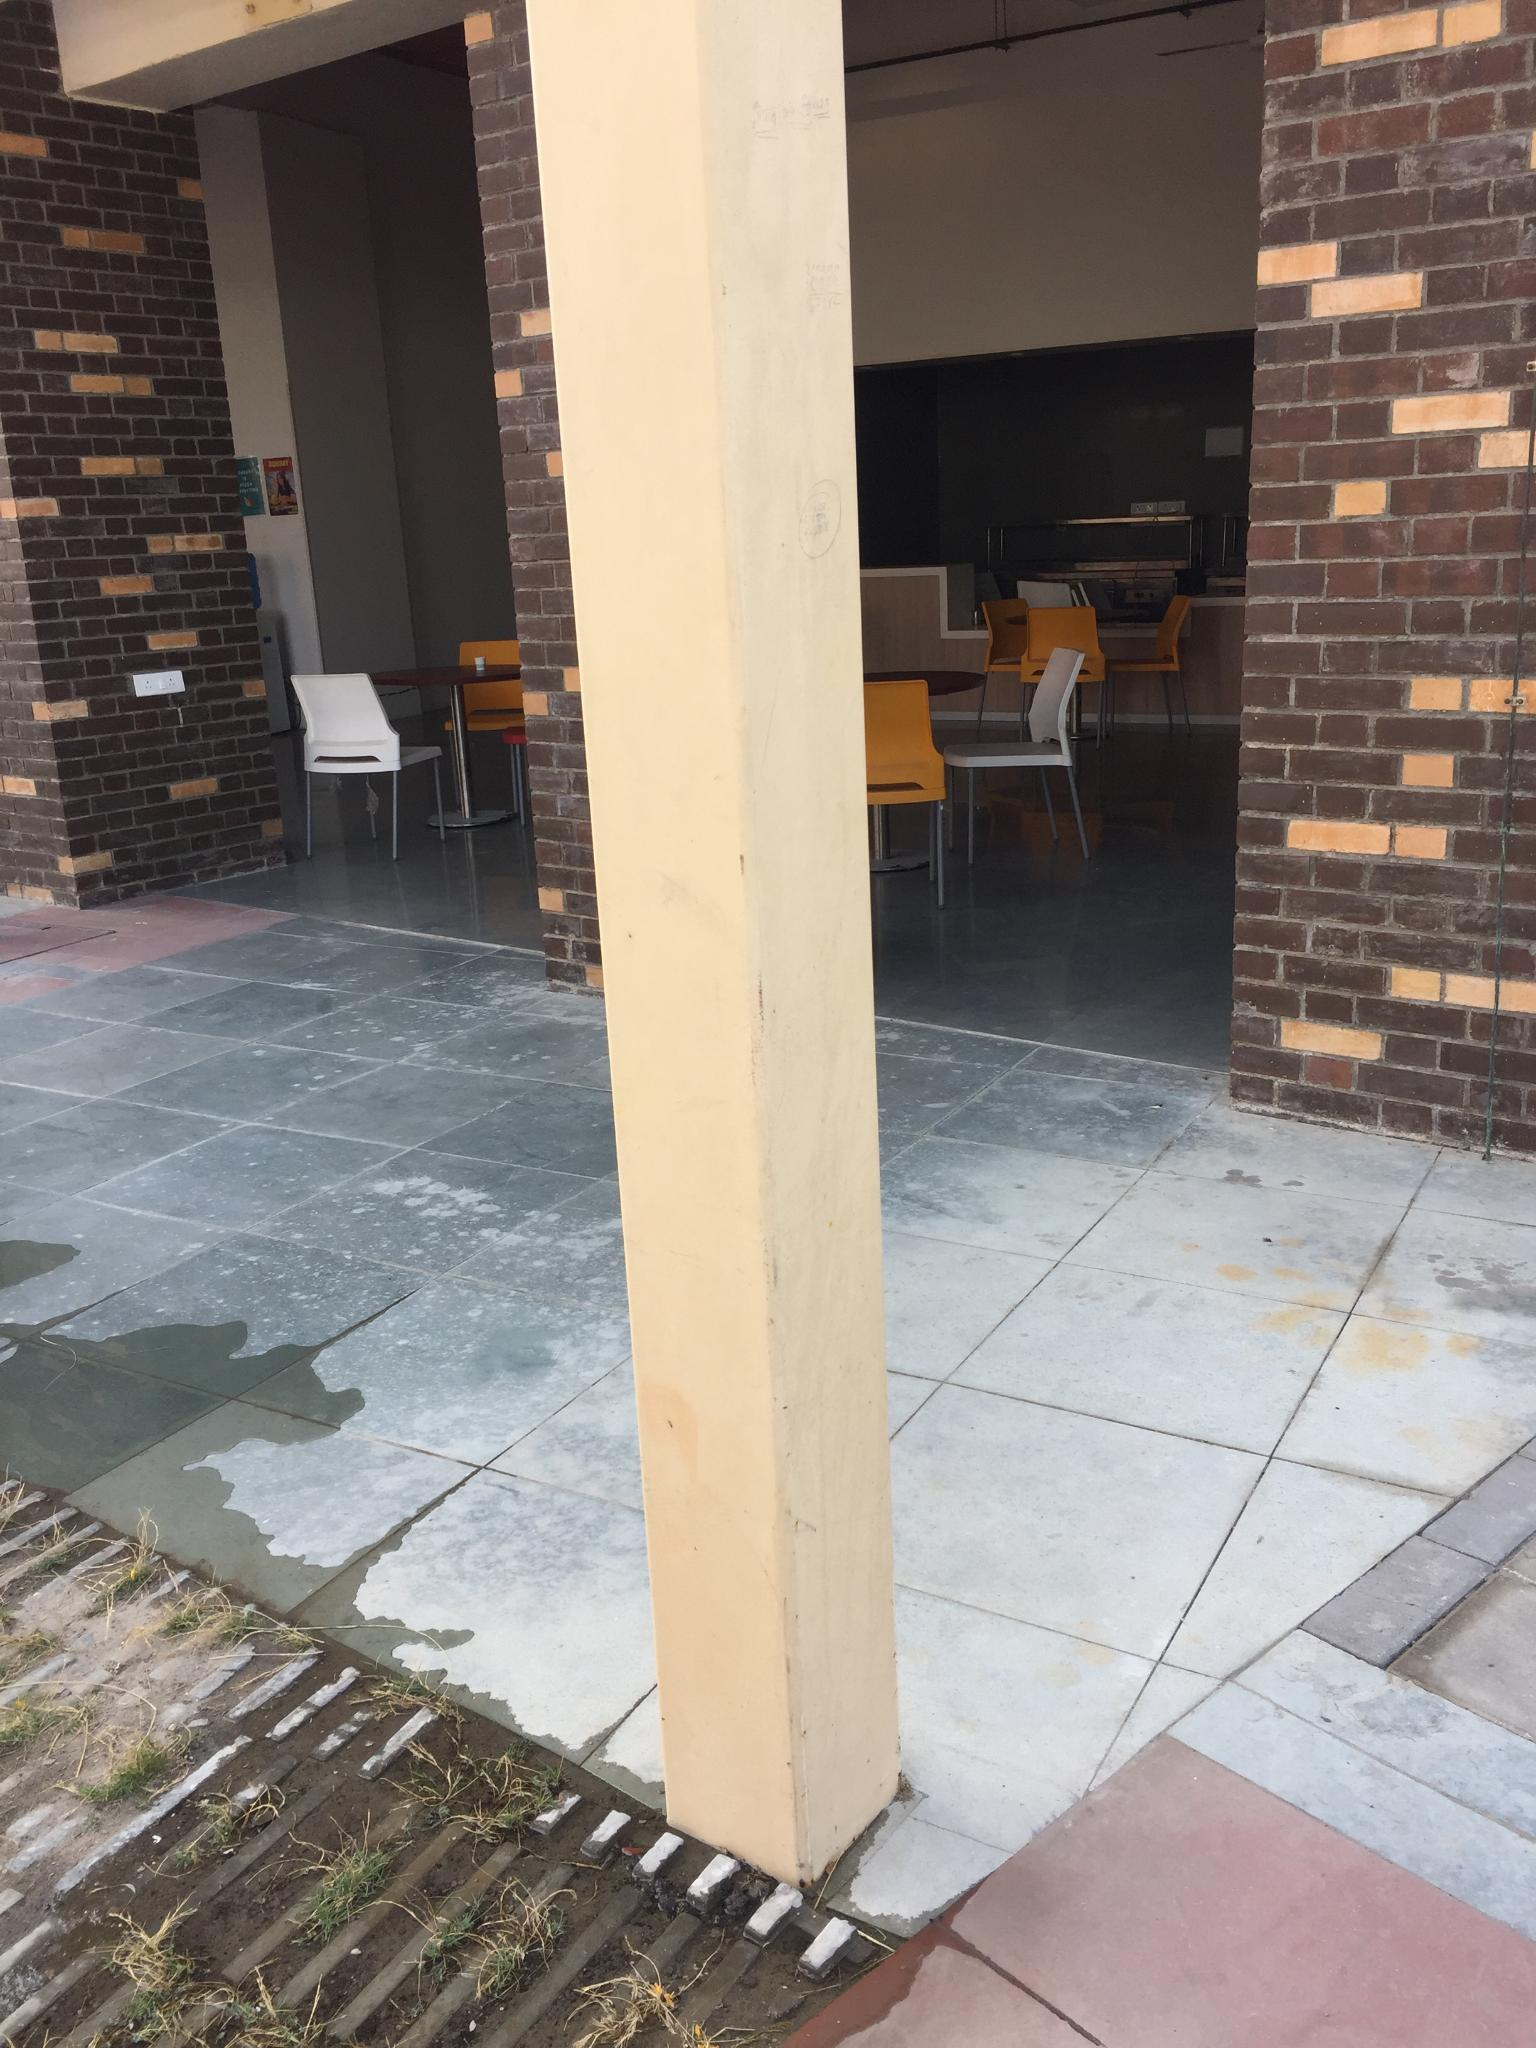chair: (941, 647, 1089, 864), (281, 669, 437, 864), (863, 677, 949, 906), (437, 640, 524, 827), (1104, 595, 1192, 742), (1018, 605, 1107, 747)
